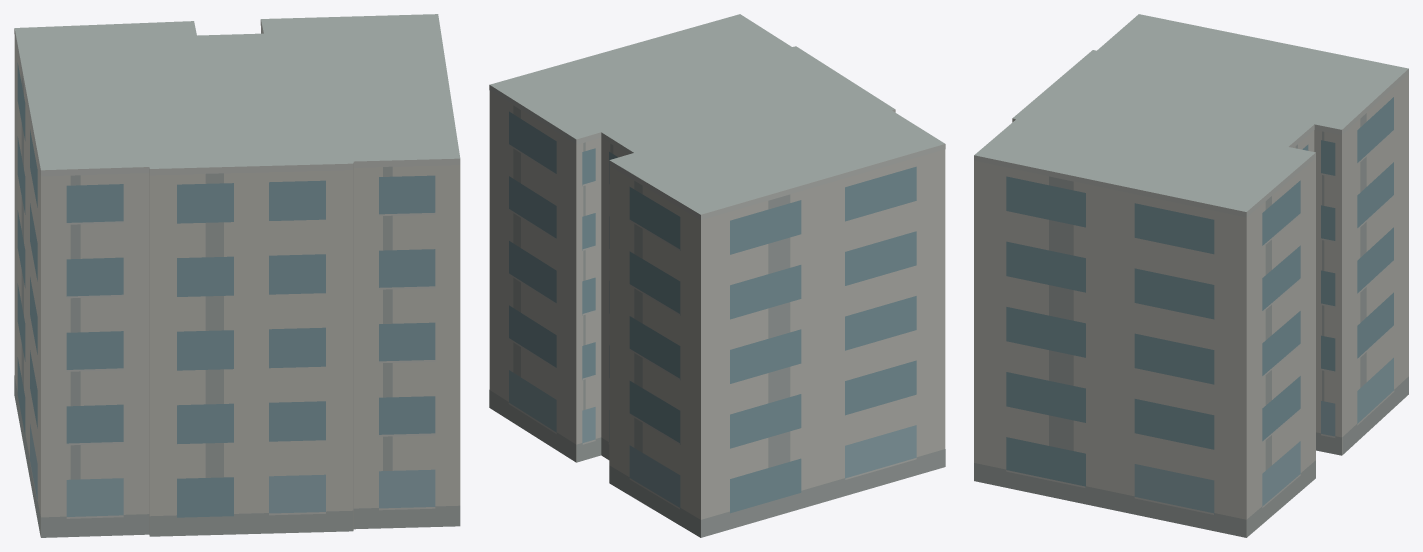
The model's file is survey-upis-32886065.glb.
The picture shows the model from 3 angles, left to right: view 1: azimuth 30°, elevation 25°; view 2: azimuth 150°, elevation 25°; view 3: azimuth 270°, elevation 25°; orthographic projection. The views are drawn at different scales.
Visible parts, largest first — view 1: survey-upis-32886065.tmp; view 2: survey-upis-32886065.tmp; view 3: survey-upis-32886065.tmp.
Part boxes in pixels (x1,y1,x2,y2): survey-upis-32886065.tmp: [14, 14, 460, 537]; survey-upis-32886065.tmp: [489, 14, 945, 537]; survey-upis-32886065.tmp: [974, 14, 1408, 537].
Bounding box in the file's own units: 18.66 × 14.3 × 17.3.
